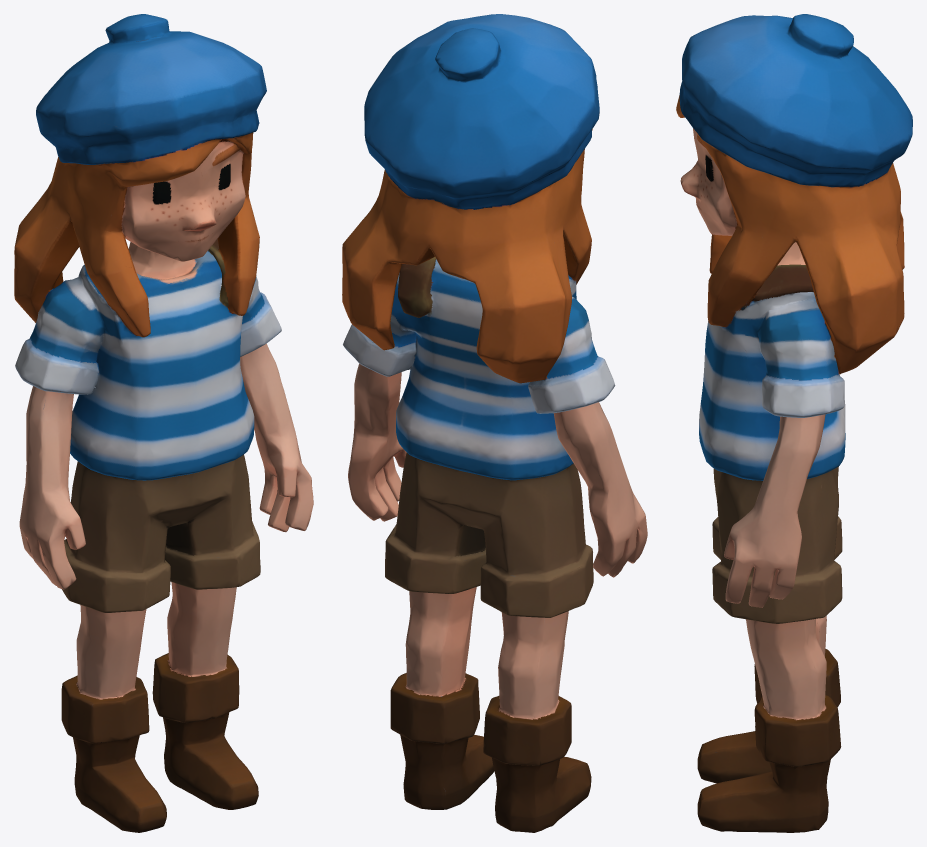
The model's file is grumete_fem.glb.
The picture shows the model from 3 angles, left to right: view 1: azimuth 30°, elevation 25°; view 2: azimuth 150°, elevation 25°; view 3: azimuth 270°, elevation 25°; orthographic projection. The views are drawn at different scales.
Visible parts, largest first — view 1: world; view 2: world; view 3: world.
Part boxes in pixels (x1,y1,x2,y2): world: (14, 14, 313, 832); world: (342, 14, 647, 832); world: (676, 14, 912, 832).
Bounding box in the file's own units: 0.3708 × 1 × 0.276.
1 material, 1 textured.
